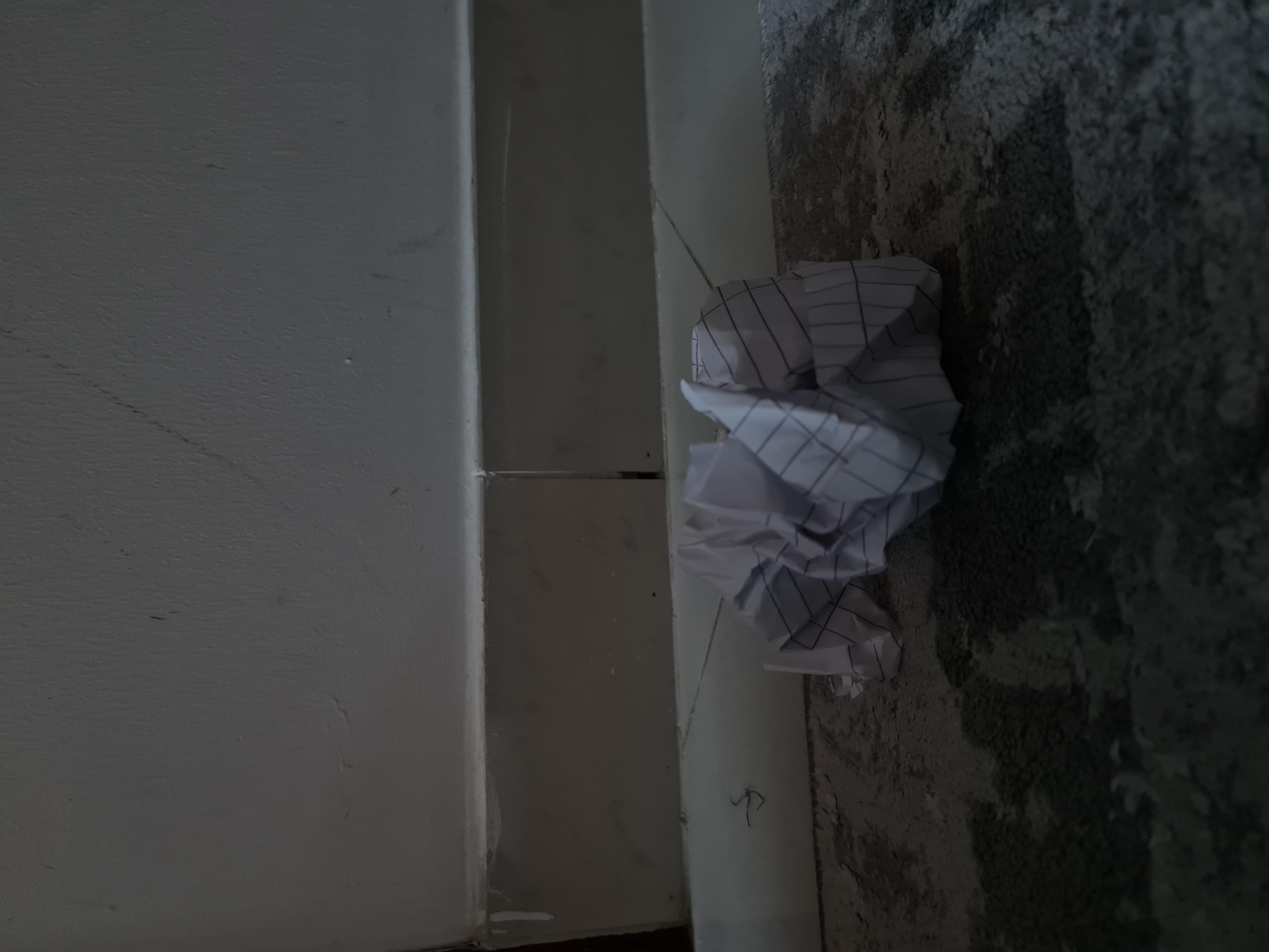paper: (332, 508, 933, 709)
